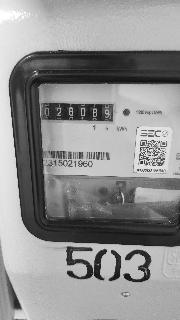1: (45, 108, 49, 116), (81, 108, 85, 116)
3: (57, 108, 61, 116)
9: (69, 108, 73, 116), (93, 109, 97, 117)
:: (105, 110, 109, 118)
